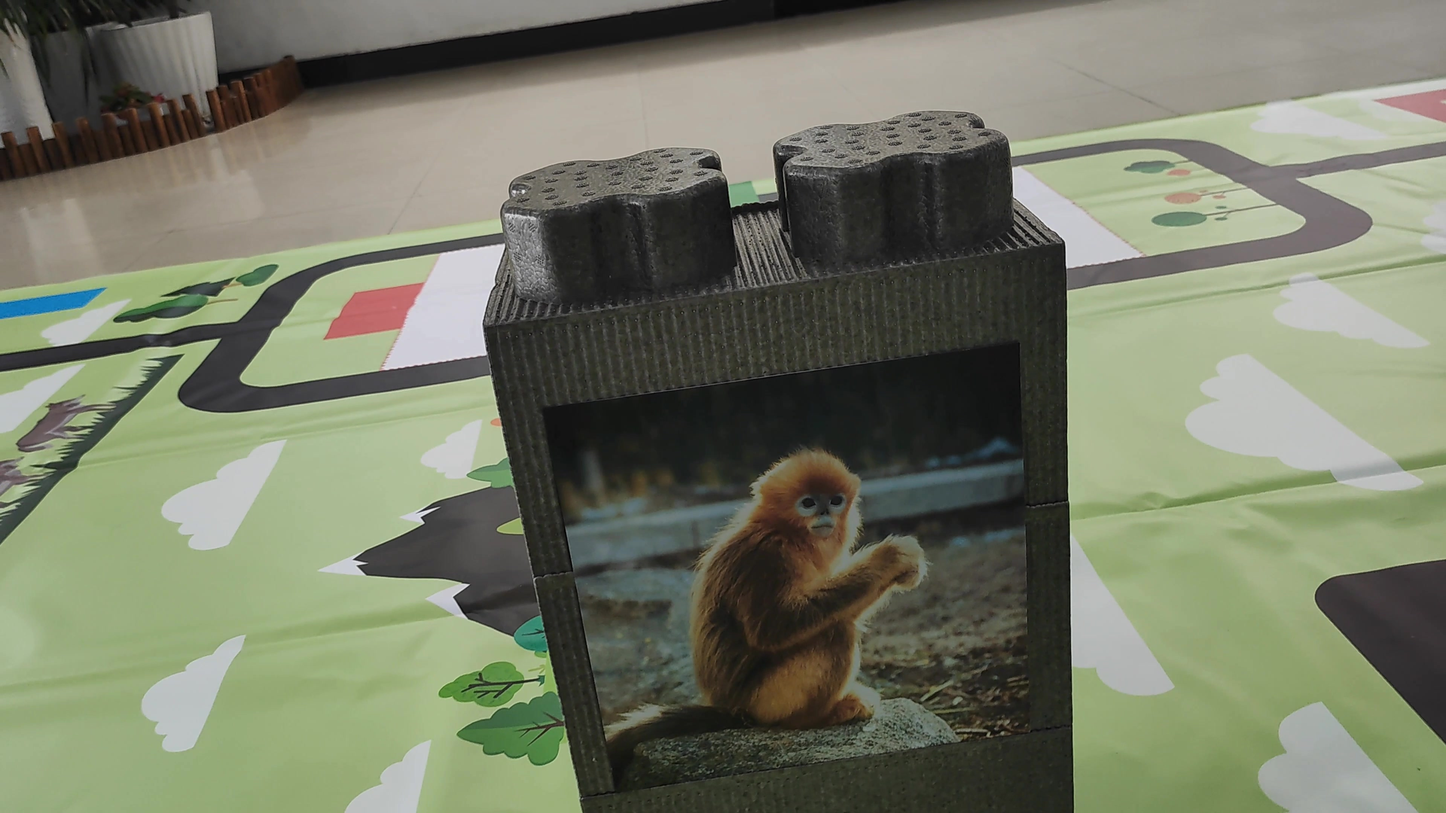monkey: (599, 420, 957, 755)
